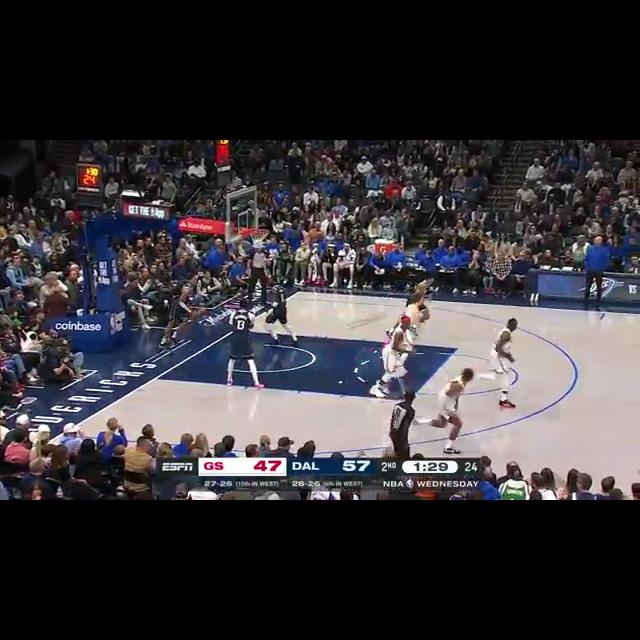Team-1-Player: (157, 272, 207, 352), (223, 296, 263, 392), (266, 278, 300, 348)
Team-2-Player: (410, 365, 480, 455), (468, 316, 522, 412), (370, 314, 416, 400)
